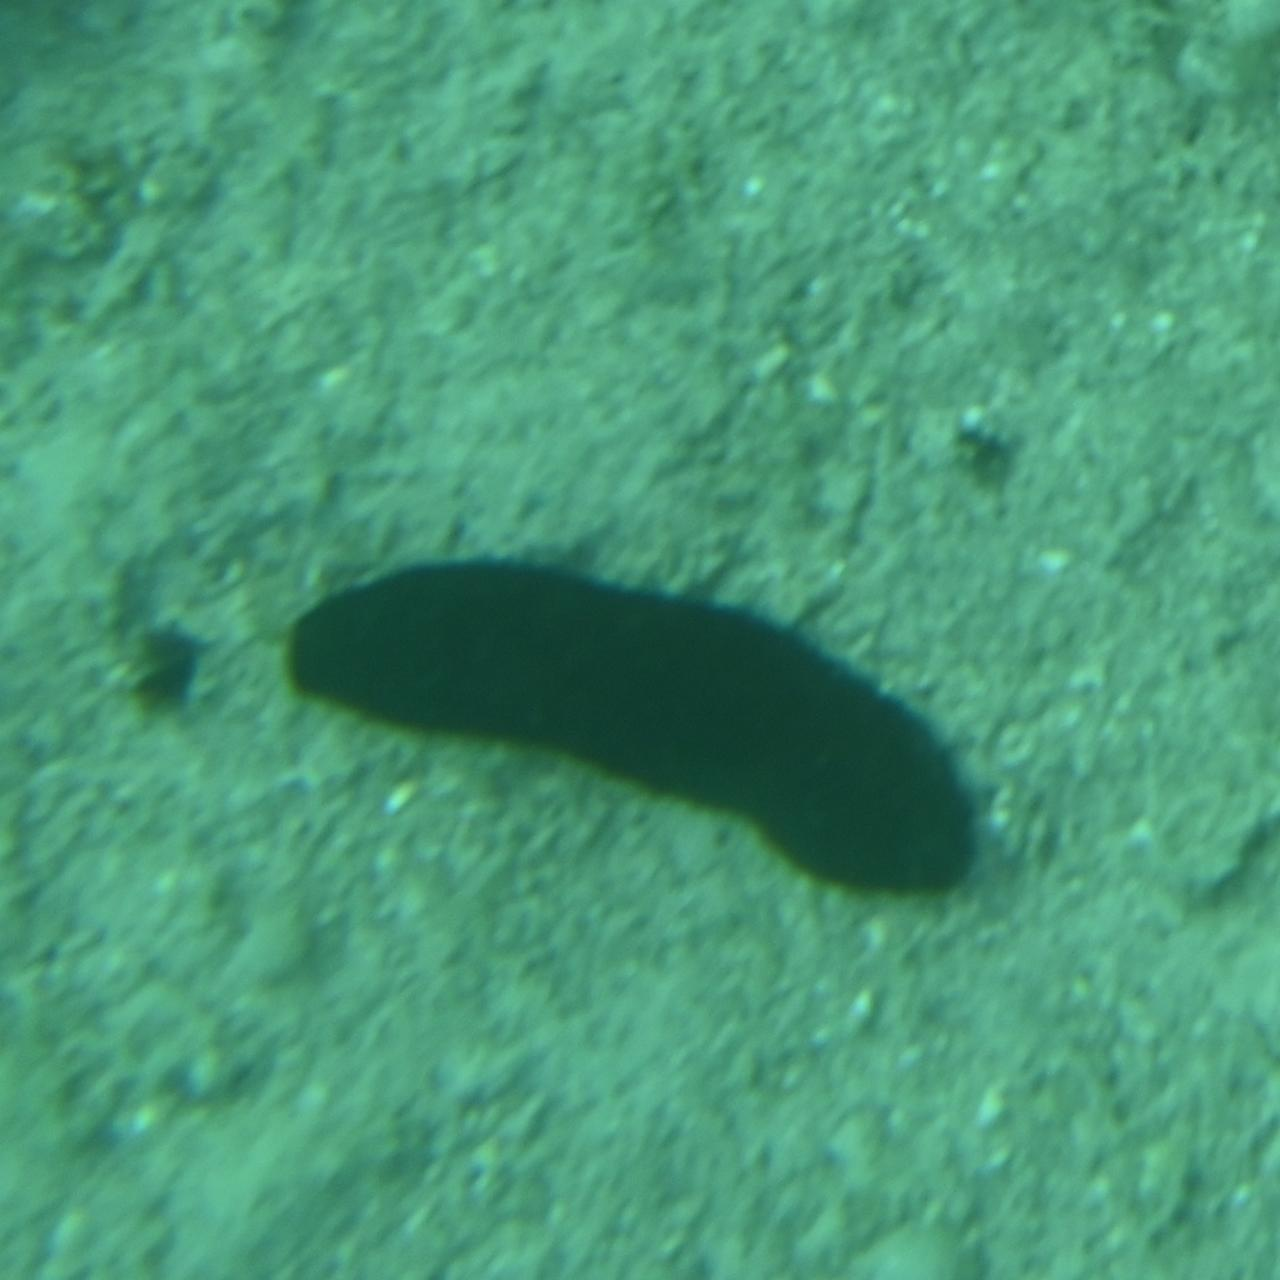Holothuria tubulosa: (288, 553, 992, 905)
